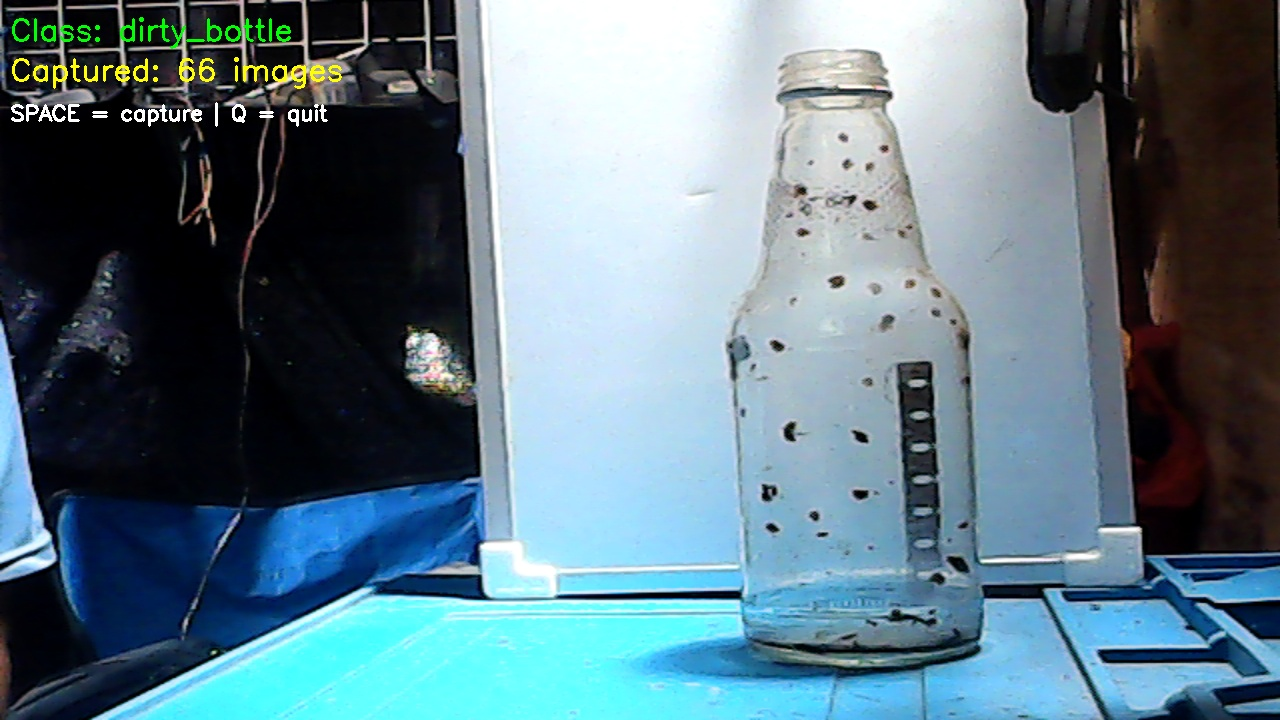dirty_bottle: (728, 44, 987, 666)
